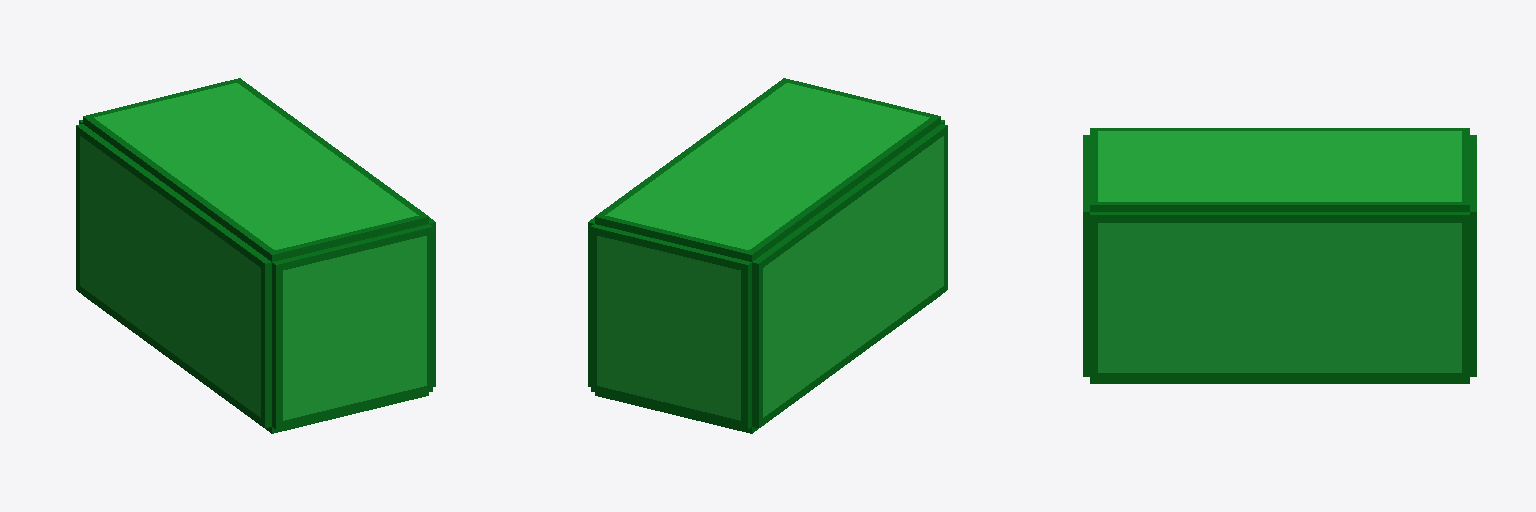
3 renders of one model, left to right at view 1: azimuth 30°, elevation 25°; view 2: azimuth 150°, elevation 25°; view 3: azimuth 270°, elevation 25°, orthographic.
Parts seen in each view (by area): view 1: Matrix_1; view 2: Matrix_1; view 3: Matrix_1.
Boxes of the visible parts, <box> form: Matrix_1: <box>76,78,435,433</box>; Matrix_1: <box>588,78,947,433</box>; Matrix_1: <box>1083,128,1476,383</box>.
Size of the model in its own units: 25 by 25 by 50.
Materials: 1 (1 with a texture image).